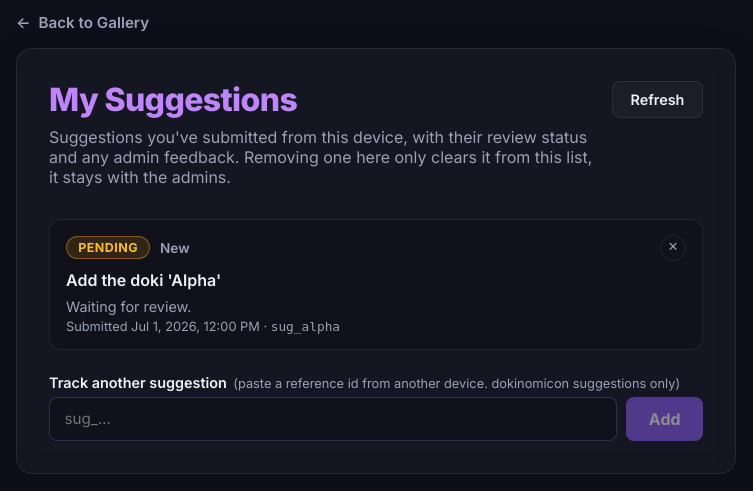
Test: SuggestionStatus › re-reads the summary on refresh
Expected: the text "Add the doki 'Alpha'" is shown, [66, 270, 221, 290]
What coordinates should you click on to do the following:
click the button "Refresh"
I would click on:
 (657, 99)
Its box is [612, 81, 703, 118].
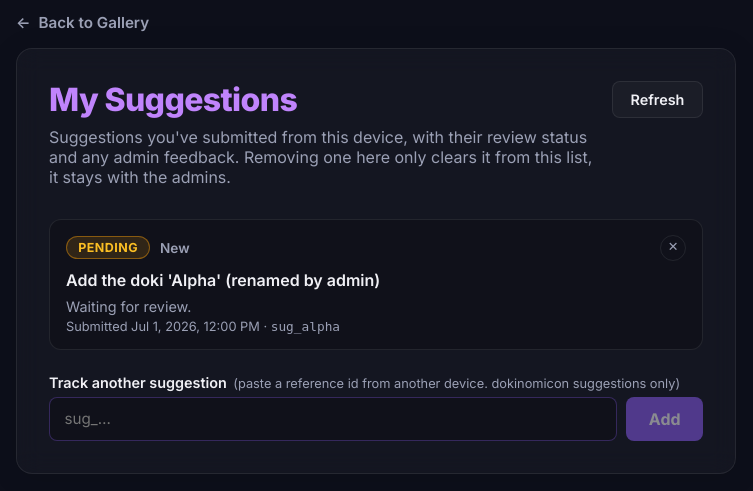
Result: the text "Add the doki 'Alpha' (renamed by admin)" is shown at [66, 270, 380, 290]
